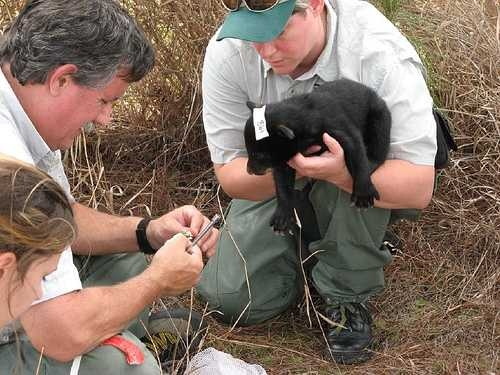bear: (231, 81, 359, 209)
